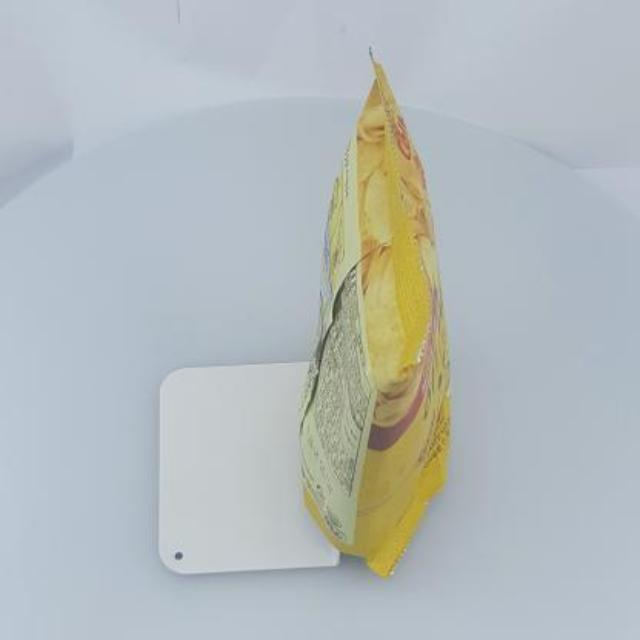snack_bag: (282, 41, 482, 582)
